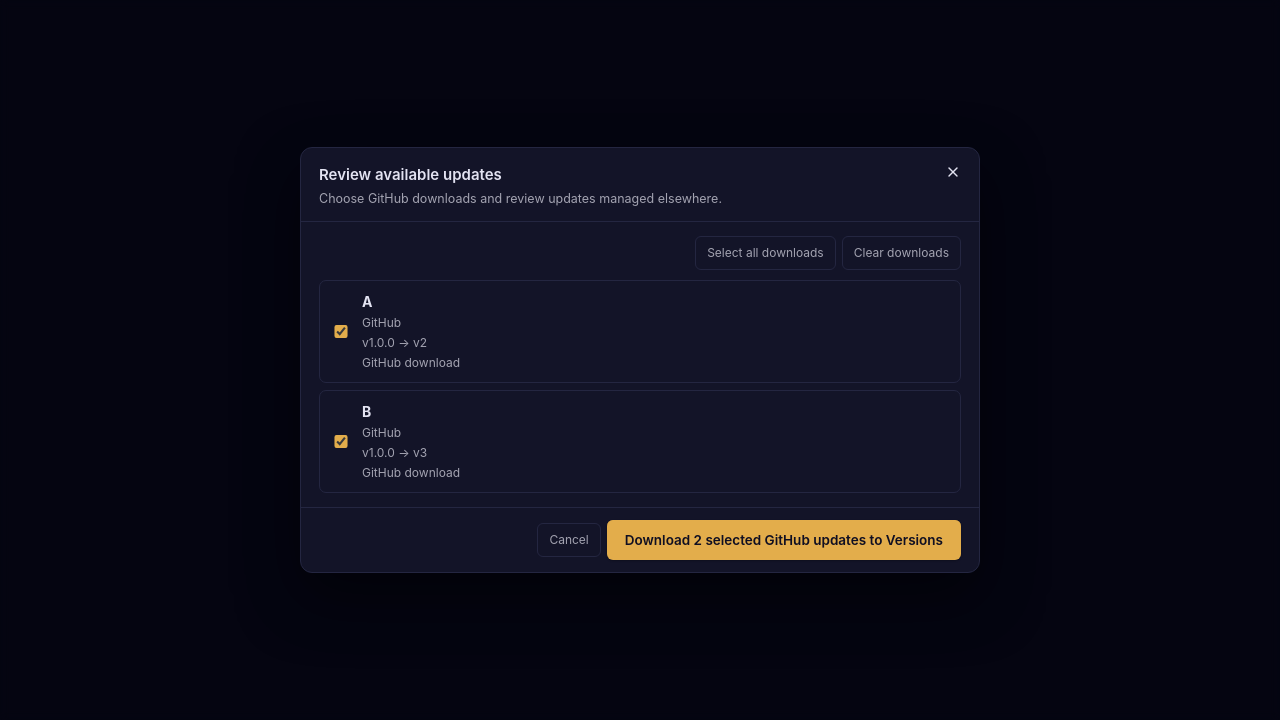
Test: <UpdatePlanSheet> › clear downloads prevents apply and select all downloads restores every downloadable row
This screenshot has width=1280, height=720.
Click the button "Clear downloads": x=901, y=253 left=842, top=236, right=961, bottom=270
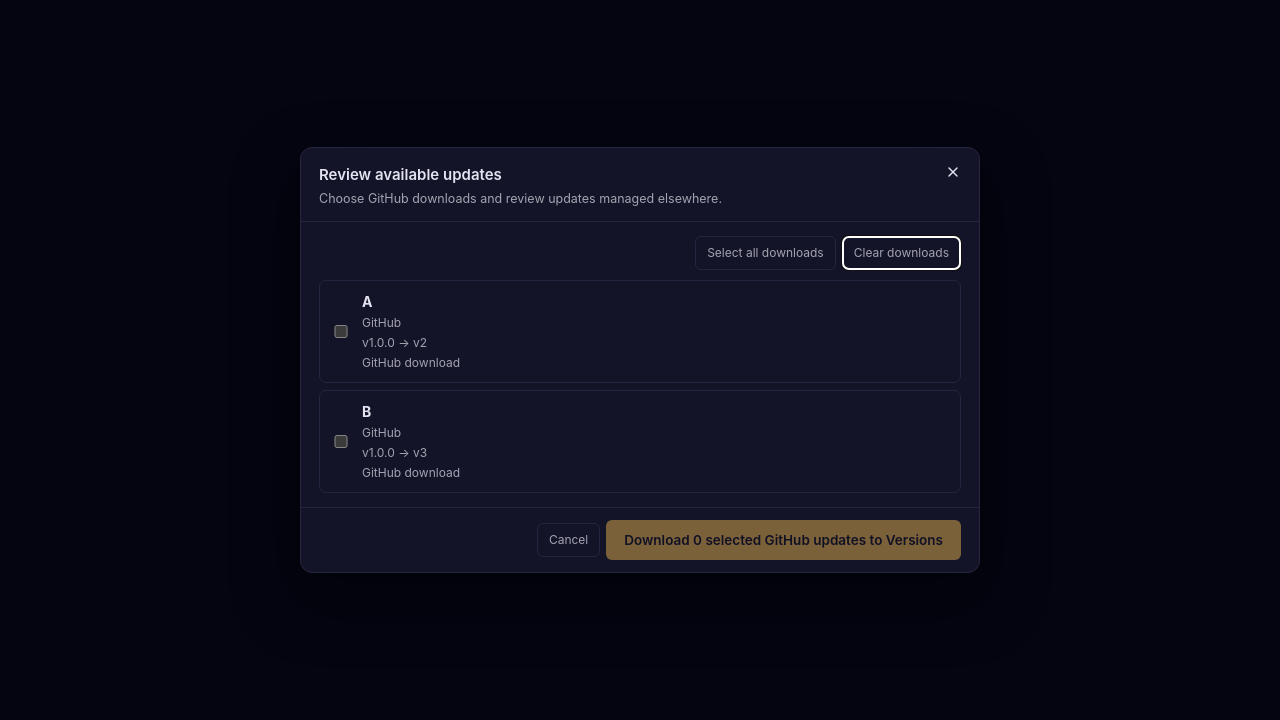
Expected: the button "Download 0 selected GitHub updates to Versions" is disabled, left=606, top=520, right=961, bottom=560
Click the button "Select all downloads": x=765, y=253 left=695, top=236, right=836, bottom=270
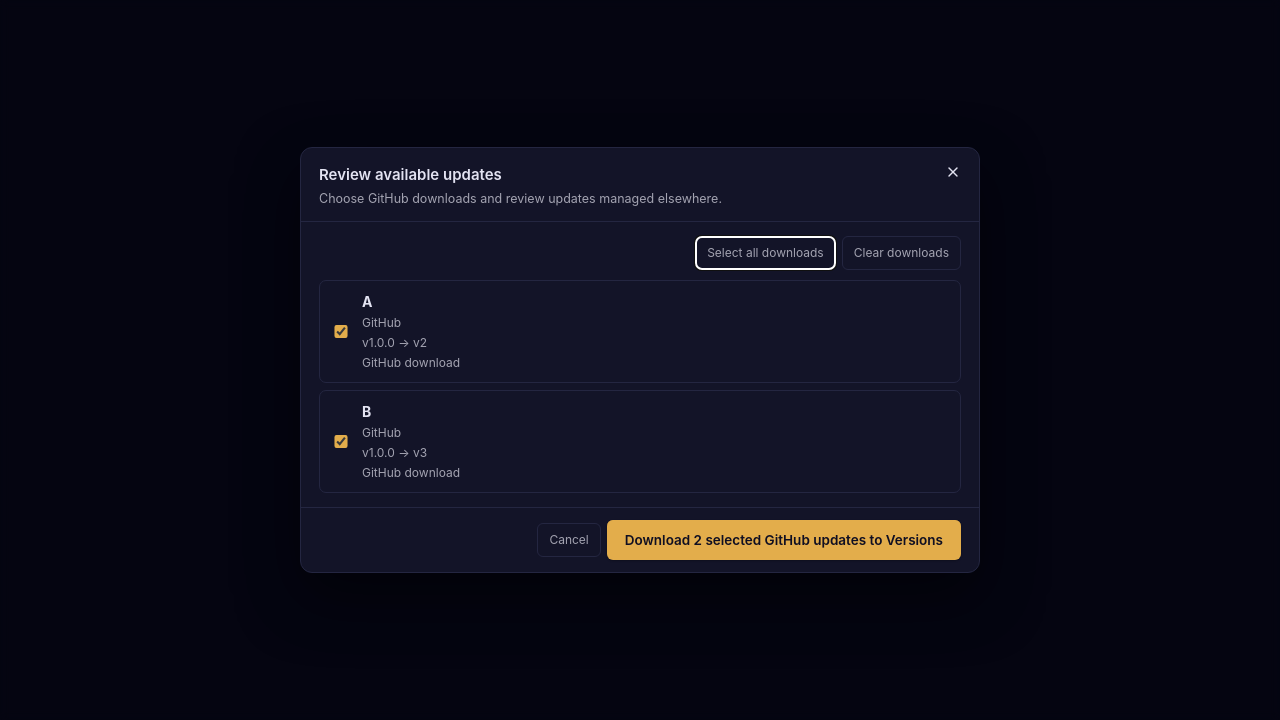
Expected: the button "Download 2 selected GitHub updates to Versions" is enabled, left=607, top=520, right=961, bottom=560
